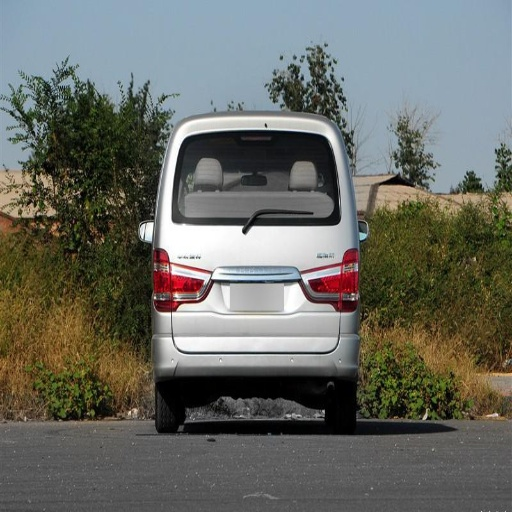back_bumper: (153, 311, 358, 383)
trunk: (165, 228, 348, 351)
